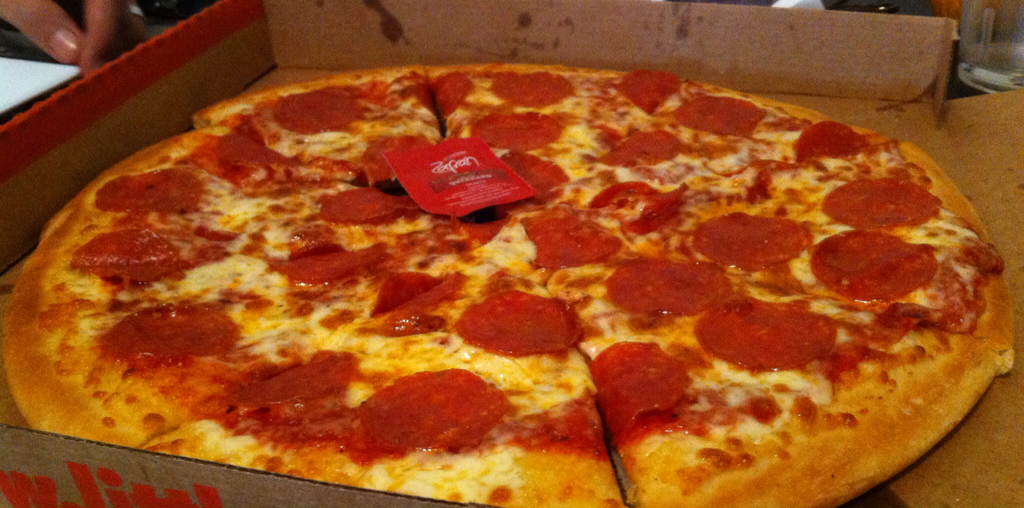Pizza: (0, 61, 1015, 507)
